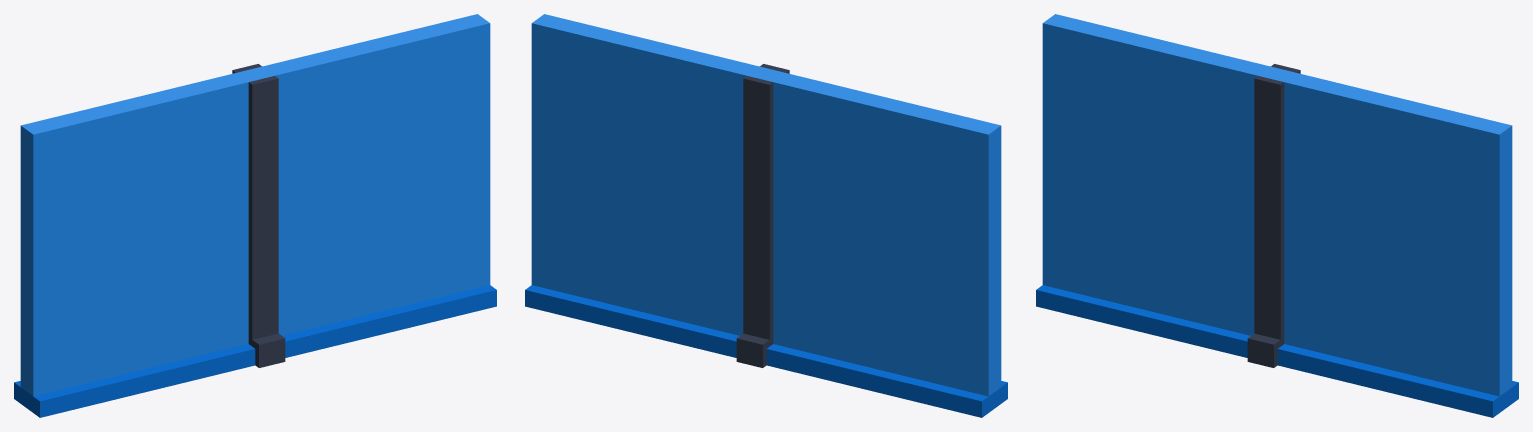
The model's file is Wall.fbx.
3 renders of one model, left to right at view 1: azimuth 30°, elevation 25°; view 2: azimuth 150°, elevation 25°; view 3: azimuth 330°, elevation 25°, orthographic.
Visible parts, largest first — view 1: Wall; view 2: Wall; view 3: Wall.
Part boxes in pixels (<box>): Wall: <box>14,14,496,417</box>; Wall: <box>525,14,1007,417</box>; Wall: <box>1036,14,1518,417</box>.
Bounding box in the file's own units: 400 × 233 × 50.87.
